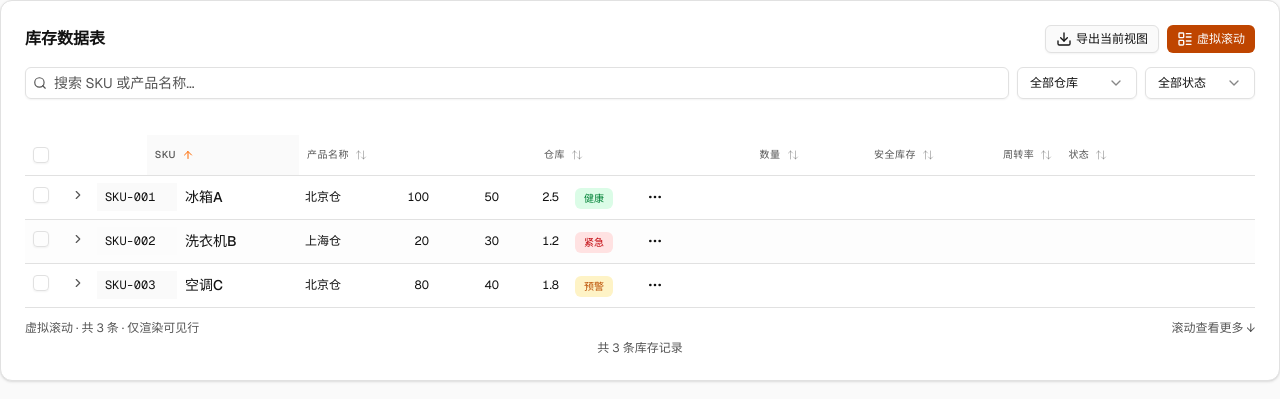
Scenario: InventoryDataTable › shows clear-filters button when search is active and clears on click
Type "SKU-001" into the field with placeholder "搜索 SKU 或产品名称..." at (517, 83), box [25, 67, 1009, 99]
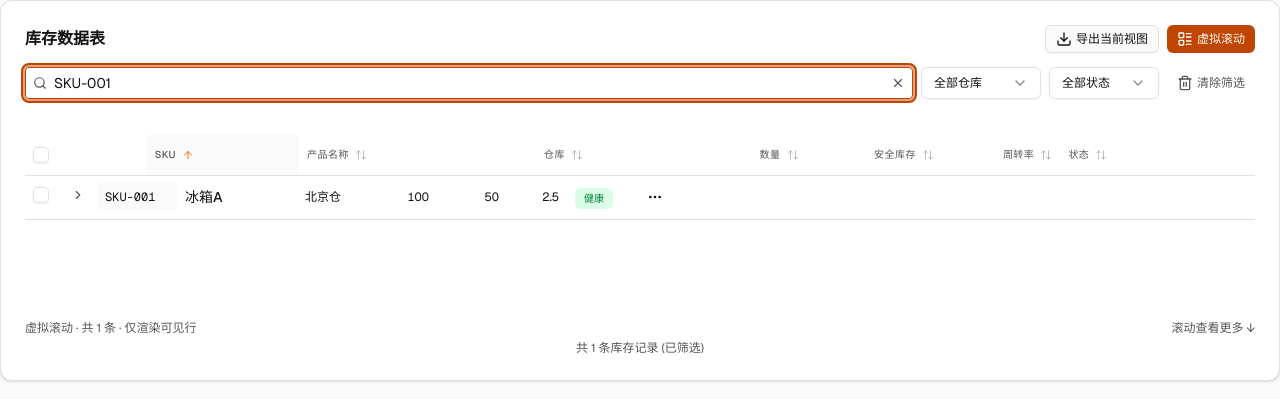
Expected: the button "清除筛选" is shown
Click the button "清除筛选" at (1211, 83), box [1167, 67, 1255, 99]
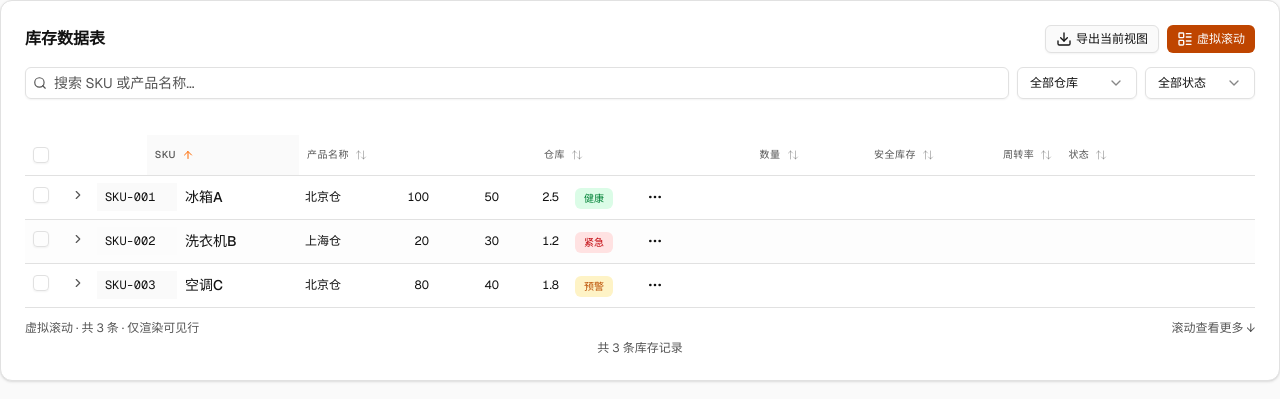
Expected: the text "SKU-001" is shown, [97, 183, 177, 211]
Expected: the text "SKU-002" is shown, [97, 227, 177, 255]
